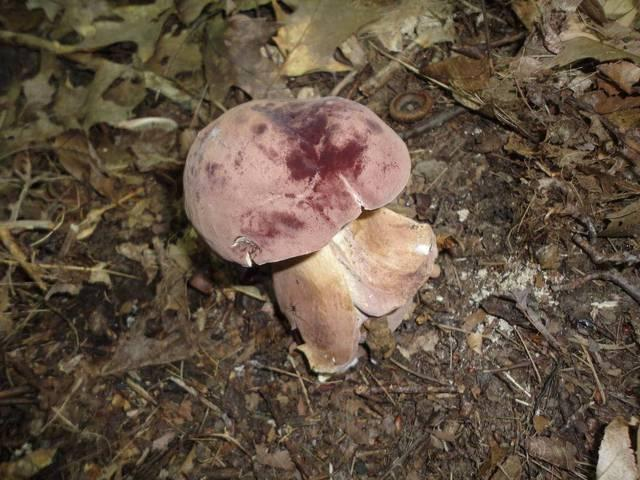Non-edible Mushroom: (181, 94, 441, 380)
